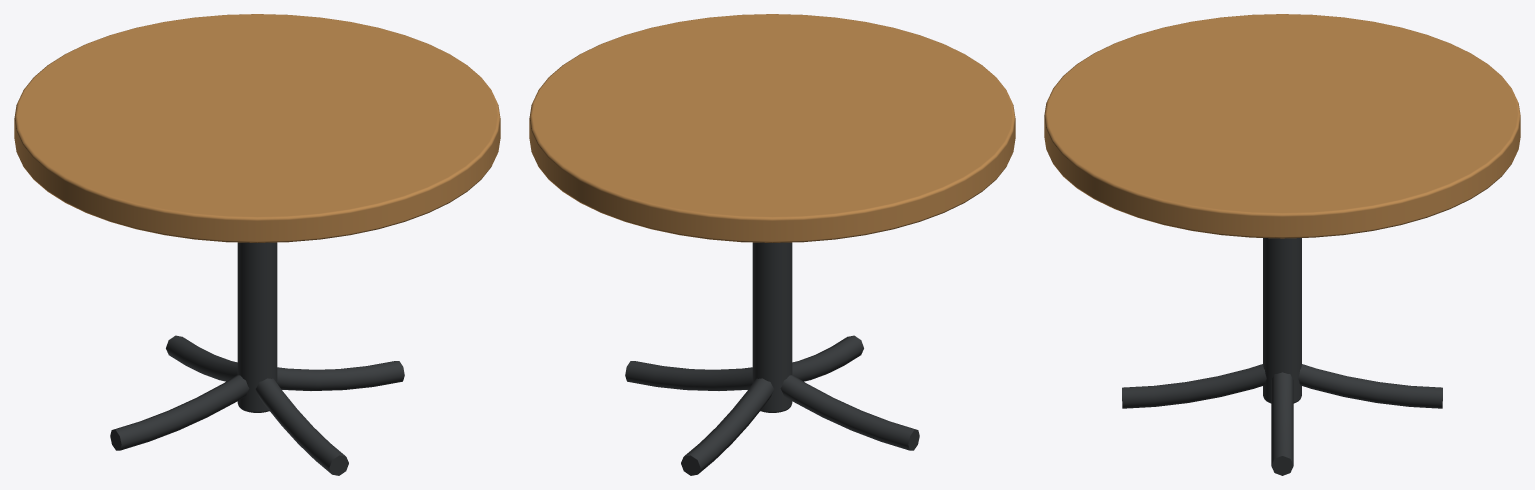
The model's file is PR_RoundTable.glb.
The picture shows the model from 3 angles, left to right: view 1: azimuth 30°, elevation 25°; view 2: azimuth 150°, elevation 25°; view 3: azimuth 270°, elevation 25°; orthographic projection. The views are drawn at different scales.
Visible parts, largest first — view 1: PR_RoundTable_LOD0; view 2: PR_RoundTable_LOD0; view 3: PR_RoundTable_LOD0.
Part boxes in pixels (x1,y1,x2,y2): PR_RoundTable_LOD0: (14,14,500,475); PR_RoundTable_LOD0: (529,14,1015,475); PR_RoundTable_LOD0: (1044,14,1520,475).
Bounding box in the file's own units: 1.1 × 0.751 × 1.1.
Materials: 1 (1 with a texture image).
